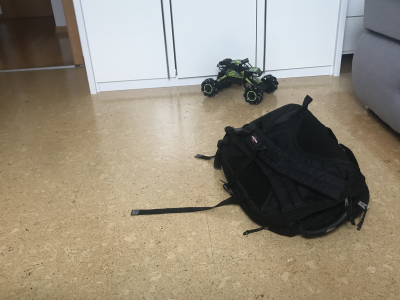remote control car: (199, 55, 281, 105)
